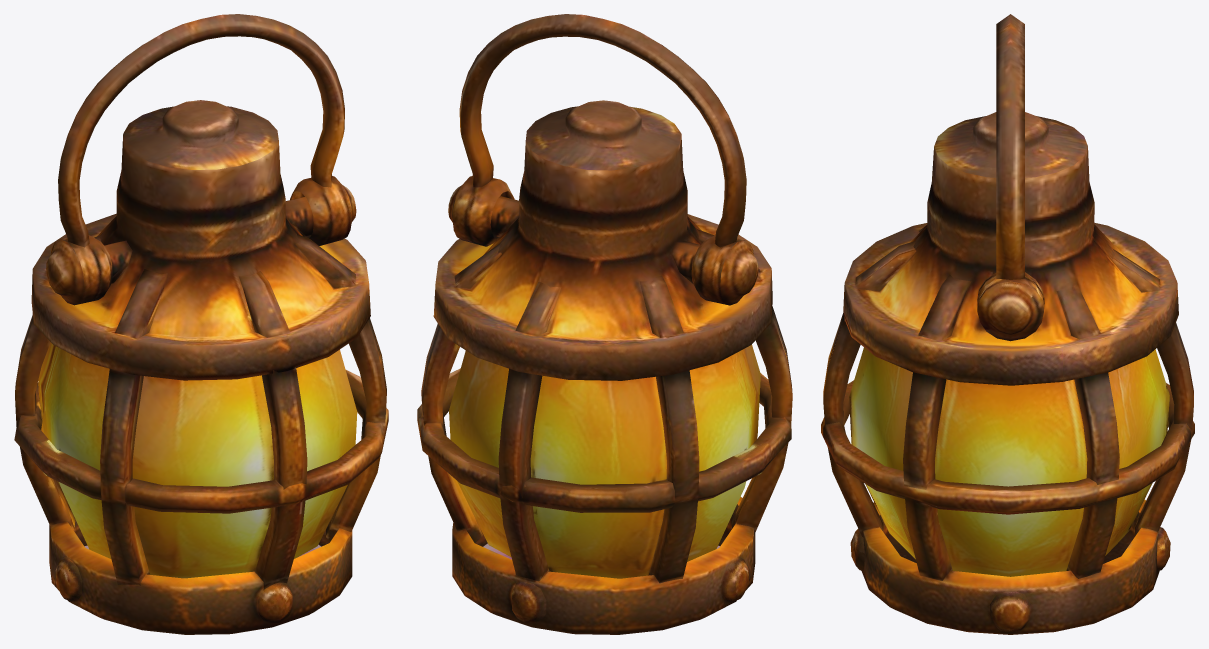
Rendered from lantern.glb.
3 views of the same model, side by side, from view 1: azimuth 30°, elevation 25°; view 2: azimuth 150°, elevation 25°; view 3: azimuth 270°, elevation 25° (orthographic).
Visible parts, largest first — view 1: Frame, Glass; view 2: Frame, Glass; view 3: Frame, Glass.
Part boxes in pixels (x1,y1,x2,y2): Frame: (14, 14, 388, 634); Glass: (38, 342, 357, 578); Frame: (417, 14, 792, 634); Glass: (449, 344, 760, 578); Frame: (821, 14, 1194, 634); Glass: (849, 347, 1169, 576).
Size of the model in its own units: 0.6015 by 1 by 0.6178.
19 materials, 19 textured.
